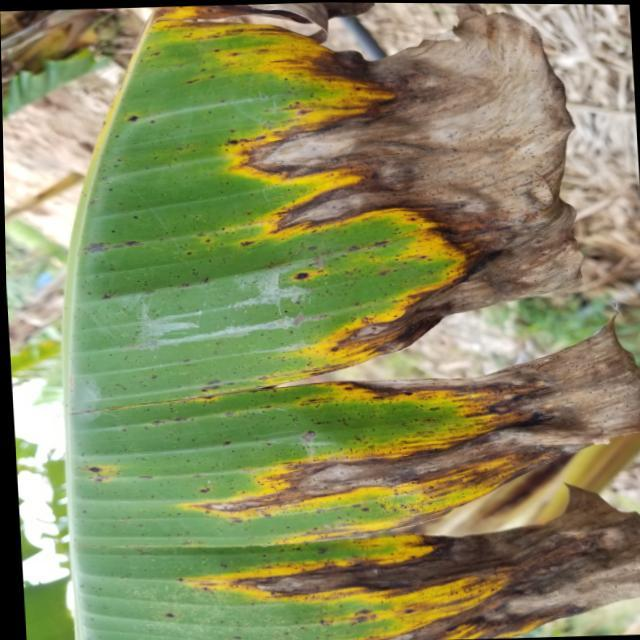Early_rust: (80, 0, 522, 635)
